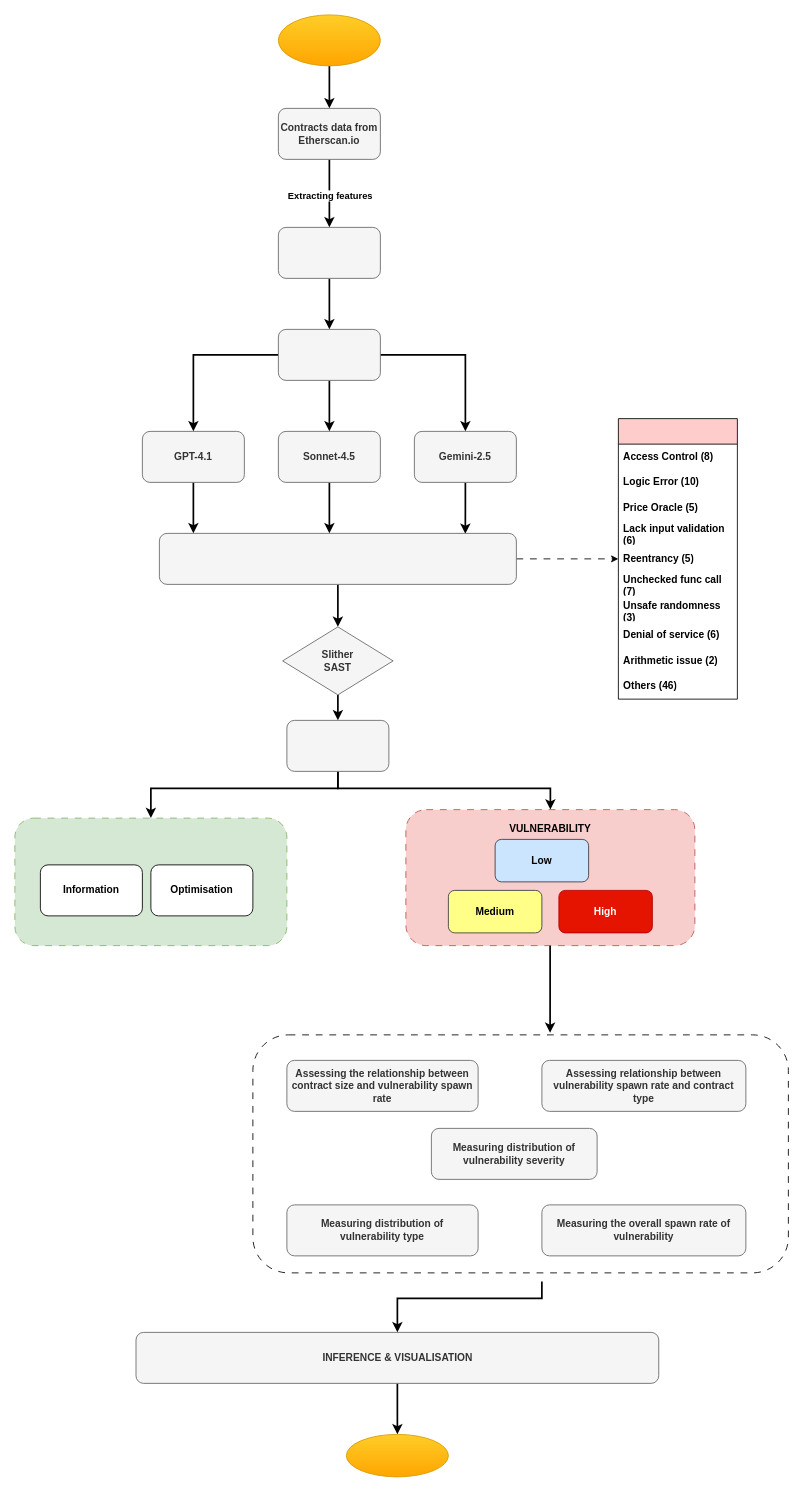
This 803x1492 diagram has some shape labels left out. The shapes that lost their labels are listed below. From the top down, each one's box as (x1, y1, x2, y2) in pixels, then its label:
(278, 14, 380, 66): START
(278, 227, 380, 278): GPT4 Model
(278, 329, 380, 380): Input prompts (common usecases)
(159, 533, 516, 584): LLM-GENERATED CONTRACTS
(618, 418, 737, 699): Vuln category
(286, 720, 389, 771): Vulnerability assessment output
(14, 817, 287, 946): NON-VULNERABILITY
(346, 1434, 448, 1477): END
